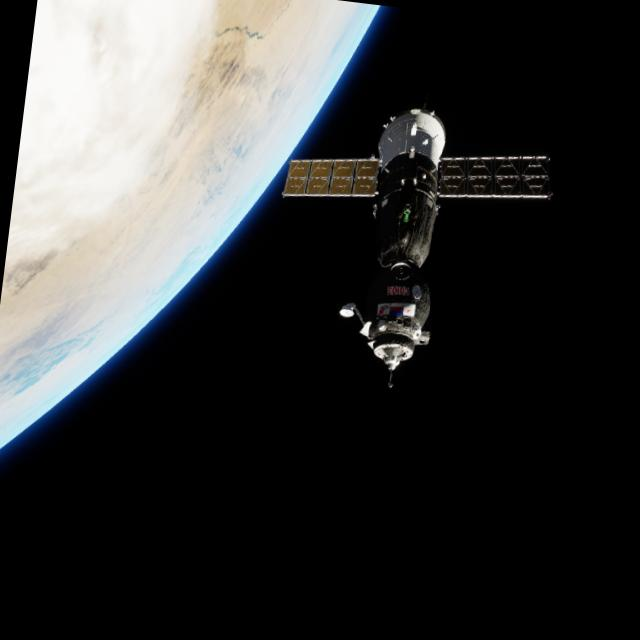Satellites revolving around earth: (257, 85, 564, 408)
